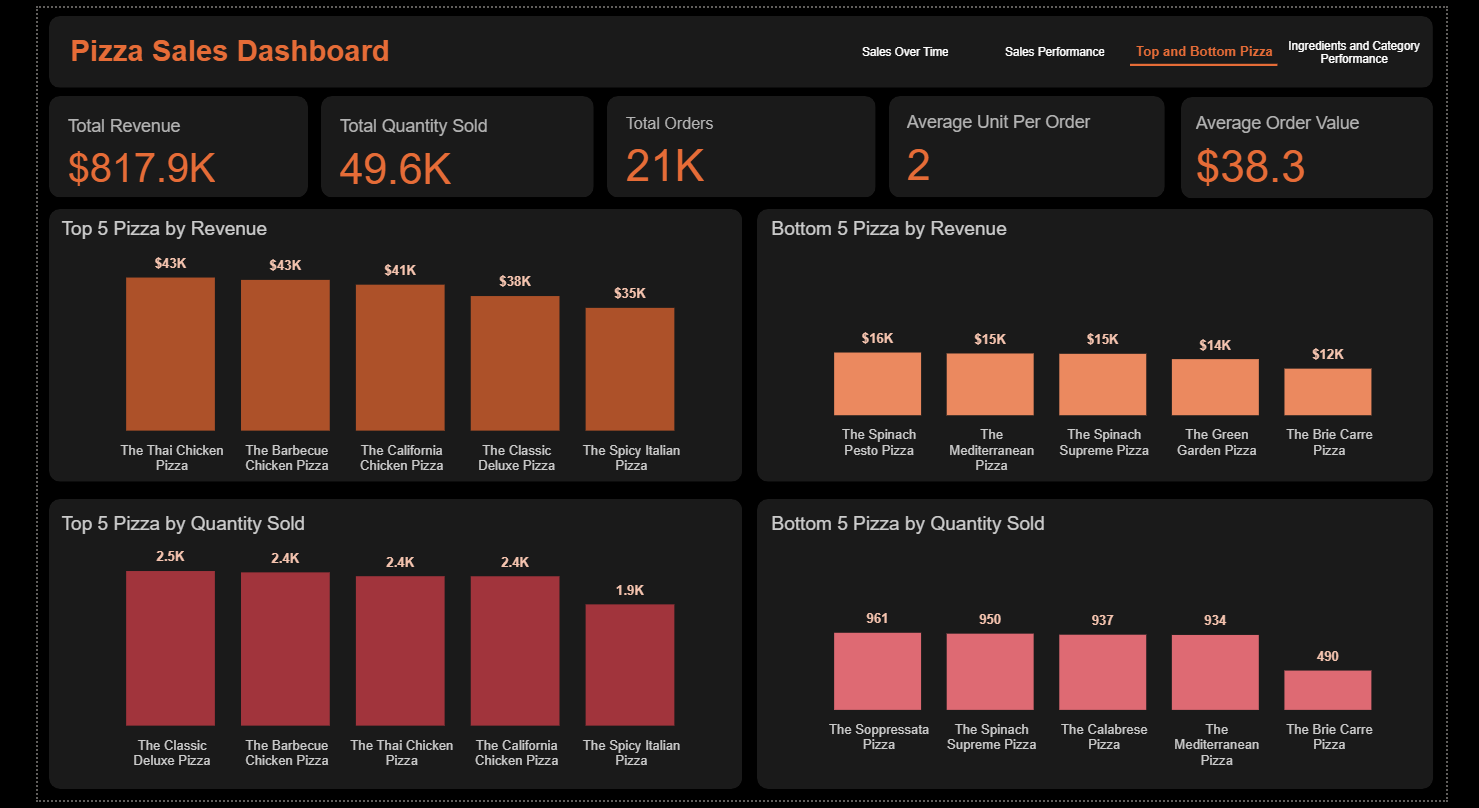

The dashboard page shown, as its layout file describes it:
{"tool":"powerbi","page":{"name":"Top and Bottom Pizza","canvas":[1280,720],"ordinal":2},"visuals":[{"type":"shape","box":[0,0,1279.7,72.5],"z":0},{"type":"shape","box":[9.9,79.7,235.5,92.2],"z":1000},{"type":"shape","box":[257,79.7,248.1,92.2],"z":2000},{"type":"shape","box":[517.6,79.7,244.5,92.2],"z":3000},{"type":"shape","box":[773.7,79.7,250.7,92.2],"z":4000},{"type":"shape","box":[1038.8,80.6,229.3,92.2],"z":5000},{"type":"cardVisual","fields":{"Data":["Sheet1.Total Revenue"]},"box":[9.7,82.7,189.7,96.3],"z":6000},{"type":"cardVisual","fields":{"Data":["Sheet1.Total Quantity Sold"]},"box":[257,82.4,252.5,92.2],"z":7000},{"type":"cardVisual","fields":{"Data":["Sheet1.Average Order Value"]},"box":[1034.9,79.8,237.3,94.3],"z":8000},{"type":"cardVisual","fields":{"Data":["Sheet1.Average Unit Per Order"]},"box":[773.3,78.8,238.3,97.3],"z":9000},{"type":"cardVisual","title":"Avg Time Per Order","fields":{"Data":["Count(Sheet1.order_id)"]},"box":[517.4,79.8,237.3,90.5],"z":10000},{"type":"shape","box":[9.7,182.9,630.3,248],"z":11000},{"type":"shape","box":[653.6,182.9,614.7,248],"z":12000},{"type":"shape","box":[653.6,446.4,614.7,263.6],"z":13000},{"type":"shape","box":[9.7,446.4,630.3,263.6],"z":14000},{"type":"columnChart","title":"Bottom 5 Pizza by Revenue","fields":{"Category":["Sheet1.name"],"Y":["Sheet1.Total Revenue"]},"box":[661.4,189.7,599.1,241.2],"z":15000},{"type":"textbox","box":[472.8,15.2,377,43],"z":16000},{"type":"columnChart","title":"Top 5 Pizza by Revenue","fields":{"Category":["Sheet1.name"],"Y":["Sheet1.Total Revenue"]},"box":[16.5,189.7,611.8,241.2],"z":17000},{"type":"columnChart","title":"Bottom 5 Pizza by Quantity Sold","fields":{"Category":["Sheet1.name"],"Y":["Sheet1.Total Quantity Sold"]},"box":[661.4,458.1,599.1,241.2],"z":18000},{"type":"columnChart","title":"Top 5 Pizza by Quantity Sold","fields":{"Category":["Sheet1.name"],"Y":["Sheet1.Total Quantity Sold"]},"box":[16.5,458.1,611.8,241.2],"z":19000}]}

Visuals, with their boxes in screenshot pixels (x1, y1, x2, y2), scaled from the page's 1280x720 canvas onto the 1479x808 screenshot:
shape: 0 0 1478 81
shape: 11 89 284 193
shape: 297 89 584 193
shape: 598 89 881 193
shape: 894 89 1184 193
shape: 1200 90 1465 194
cardVisual - Sheet1.Total Revenue: 11 93 230 201
cardVisual - Sheet1.Total Quantity Sold: 297 92 589 196
cardVisual - Sheet1.Average Order Value: 1196 90 1470 195
cardVisual - Sheet1.Average Unit Per Order: 894 88 1169 198
"Avg Time Per Order" cardVisual: 598 90 872 191
shape: 11 205 740 484
shape: 755 205 1465 484
shape: 755 501 1465 797
shape: 11 501 740 797
"Bottom 5 Pizza by Revenue" columnChart: 764 213 1456 484
textbox: 546 17 982 65
"Top 5 Pizza by Revenue" columnChart: 19 213 726 484
"Bottom 5 Pizza by Quantity Sold" columnChart: 764 514 1456 785
"Top 5 Pizza by Quantity Sold" columnChart: 19 514 726 785
